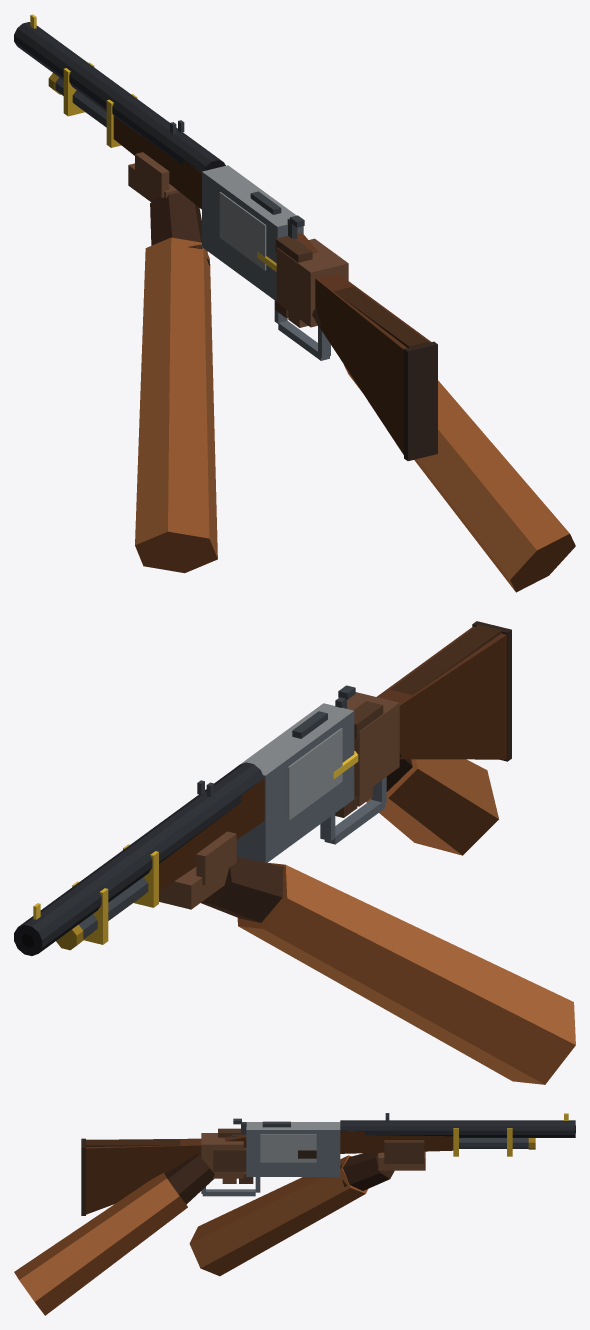
3 renders of one model, top to bottom at view 1: azimuth 30°, elevation 25°; view 2: azimuth 150°, elevation 25°; view 3: azimuth 270°, elevation 25°, orthographic. The views are drawn at different scales.
Visible parts, largest first — view 1: scattergun, handRight, lever; view 2: scattergun, handRight, lever; view 3: scattergun, handRight, lever.
Part boxes in pixels (<box>): scattergun: <box>14,14,437,573</box>; handRight: <box>275,236,575,592</box>; lever: <box>274,300,330,360</box>; scattergun: <box>14,621,575,1084</box>; handRight: <box>335,692,498,855</box>; lever: <box>320,777,386,844</box>; scattergun: <box>81,1113,575,1276</box>; handRight: <box>14,1128,253,1315</box>; lever: <box>201,1177,260,1196</box>.
Size of the model in its own units: 0.4495 by 0.471 by 1.19.
